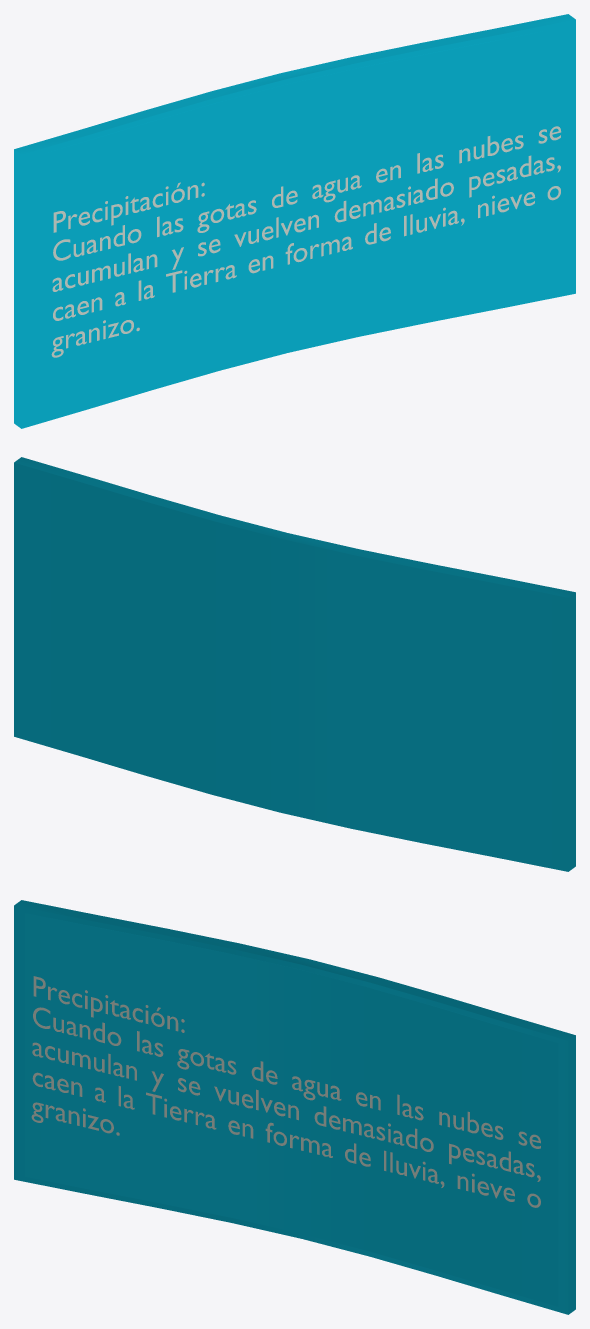
Rendered from pre.glb.
3 renders of one model, top to bottom at view 1: azimuth 30°, elevation 25°; view 2: azimuth 150°, elevation 25°; view 3: azimuth 330°, elevation 25°, orthographic.
Parts seen in each view (by area): view 1: Cube, Text; view 2: Cube; view 3: Cube, Text.
Boxes of the visible parts, bbox=[...] form: Cube: bbox=[14, 14, 575, 428]; Text: bbox=[51, 126, 561, 357]; Cube: bbox=[14, 457, 575, 871]; Cube: bbox=[14, 900, 575, 1314]; Text: bbox=[31, 976, 540, 1207].
Bounding box in the file's own units: 4.23 × 2 × 0.3325.
